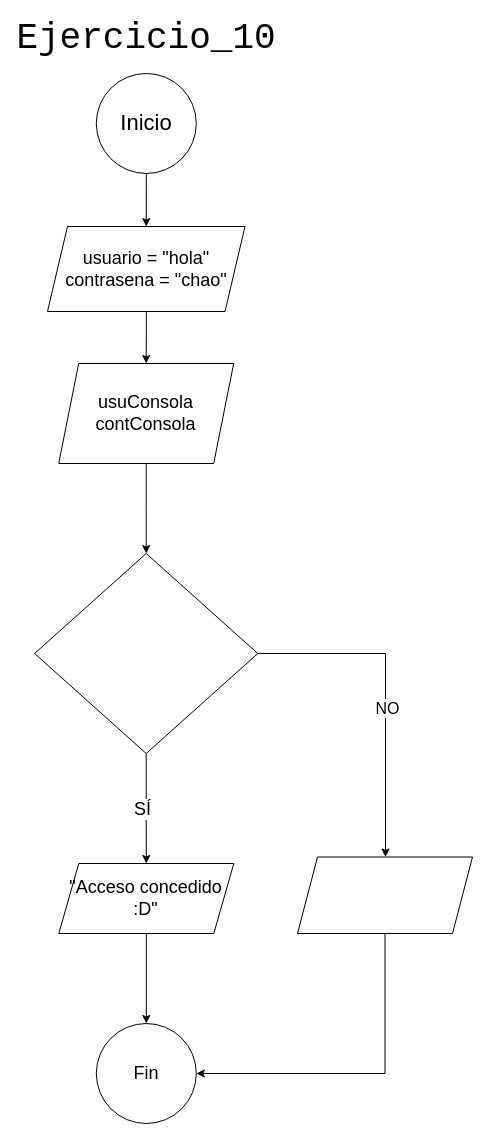
The diagram is 491 pixels wide and 1141 high, and some of its shapes have lost their labels. Here are the shapes that lost their labels. From the top down, the centre of each, then its label:
(x=146, y=653): ¿usuConsola == usuario? y ¿contConsola == contrasena?
(x=384, y=895): "Acceso denegado :<"
